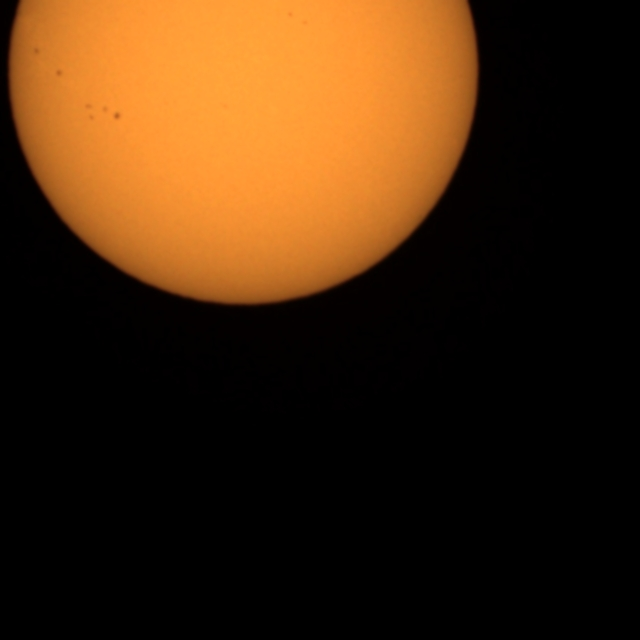sunspot: (83, 102, 124, 125), (286, 8, 310, 28), (32, 46, 42, 57), (54, 68, 64, 79)
